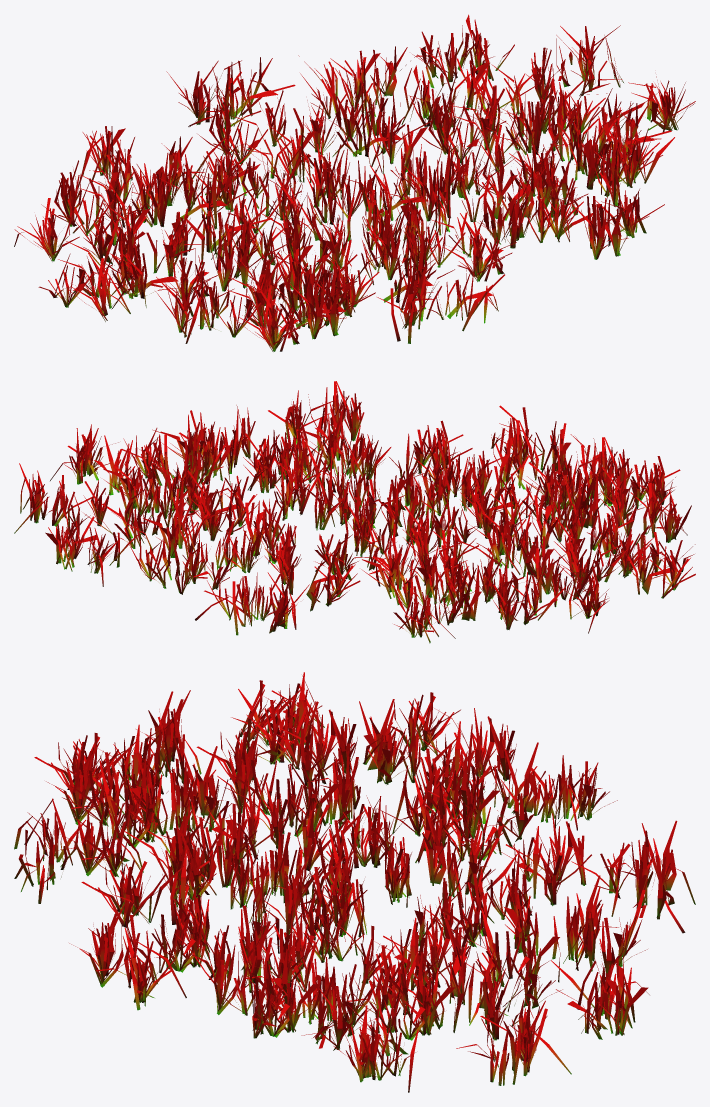
Rendered from GrassBlades2_Var1.FBX.
3 views of the same model, one above another, from view 1: azimuth 30°, elevation 25°; view 2: azimuth 150°, elevation 25°; view 3: azimuth 270°, elevation 25° (orthographic). The views are drawn at different scales.
Parts seen in each view (by area): view 1: GrassBlades2_Var1_LOD0; view 2: GrassBlades2_Var1_LOD0; view 3: GrassBlades2_Var1_LOD0.
Part boxes in pixels (box(x1,y1,x2,y2)): GrassBlades2_Var1_LOD0: box(14, 14, 695, 351); GrassBlades2_Var1_LOD0: box(14, 381, 695, 643); GrassBlades2_Var1_LOD0: box(14, 672, 695, 1092).
Size of what is drawn, in the model's own units: 275 by 24.9 by 209.
